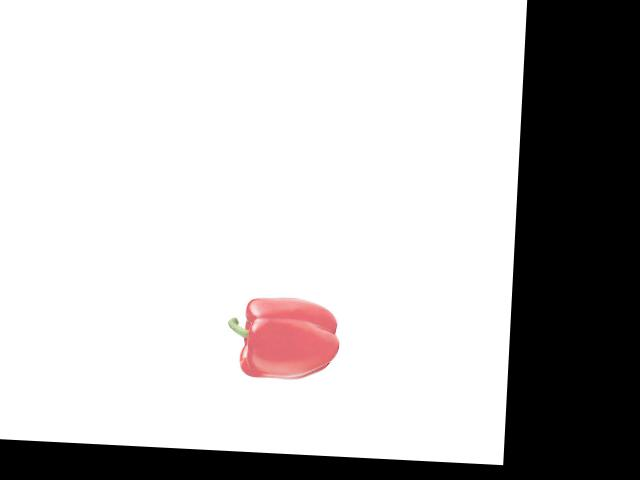bell_pepper: (225, 290, 344, 387)
